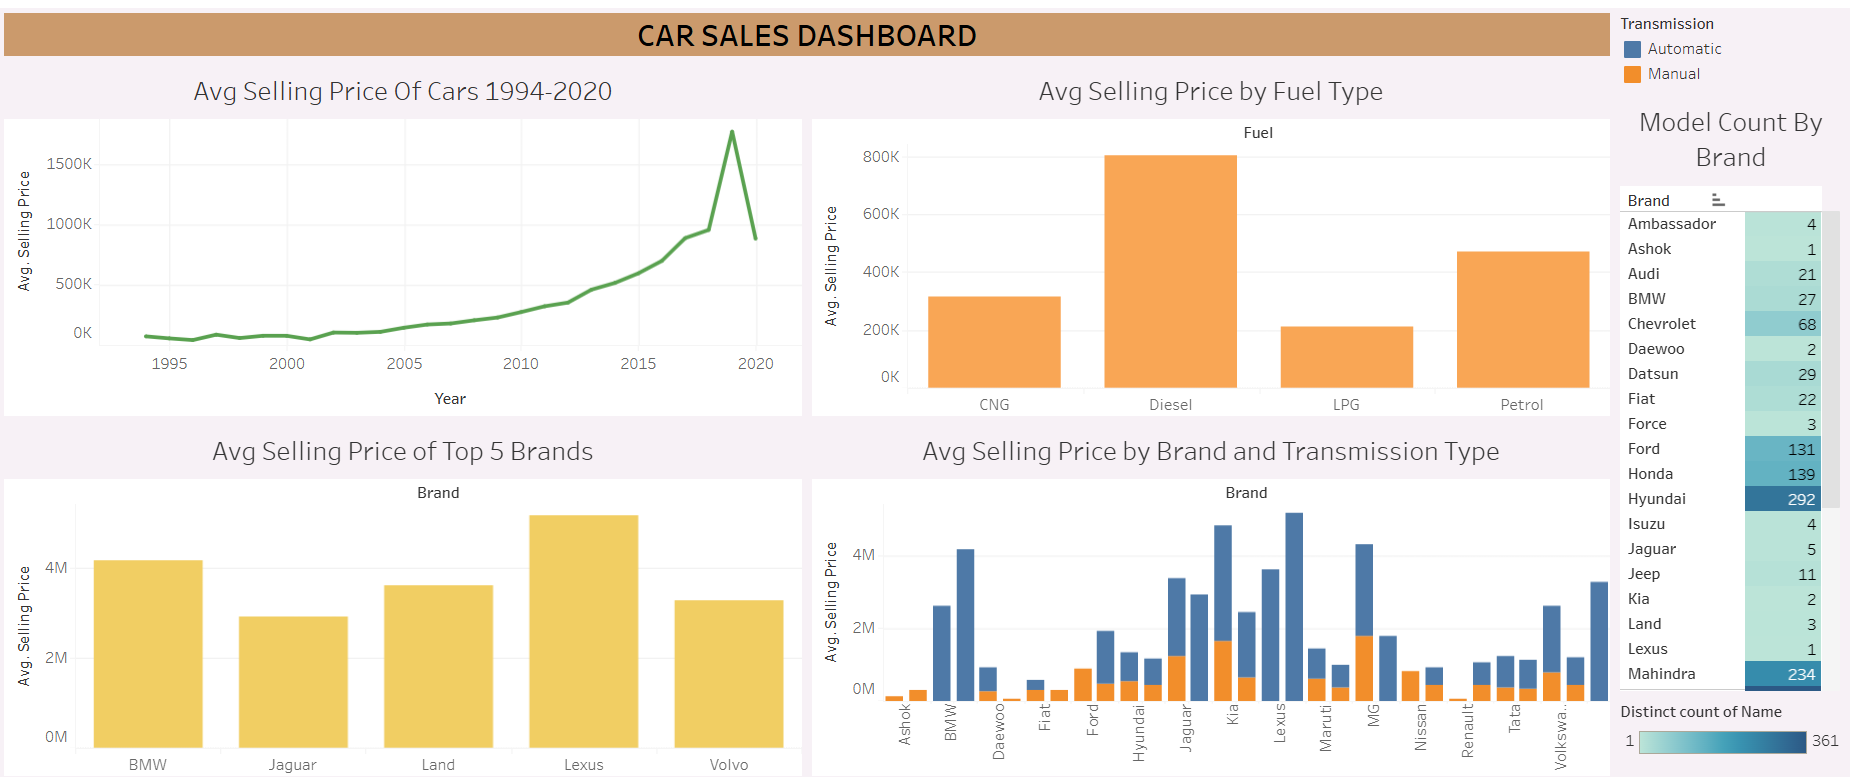

What the dashboard file says about the page in this screenshot:
{"tool":"tableau","page":{"name":"Dashboard 1","canvas":[1000,1000],"units":"permille","ordinal":0},"visuals":[{"type":"title","box":[4.8,9.3,876.9,56.9]},{"type":"legend","title":"Avg Selling Price by Brand and Transmission Type","param":"[federated.0wpgrcc0idzwib1fr7xt21i49dn0].[none:transmission:nk]","box":[881.7,9.3,113.5,83.6]},{"type":"worksheet","title":"Avg Selling Price Of Cars 1994-2020","mark":"Automatic","rows":["selling_price"],"cols":["year"],"box":[4.8,66.2,438.4,462.2]},{"type":"worksheet","title":"Avg Selling Price by Fuel Type","mark":"Automatic","rows":["selling_price"],"cols":["fuel"],"box":[443.2,66.2,438.5,462.2]},{"type":"worksheet","title":"Model Count By Brand","mark":"Square","rows":["brand"],"box":[881.7,92.9,113.5,813]},{"type":"worksheet","title":"Avg Selling Price of Top 5 Brands","mark":"Automatic","rows":["selling_price"],"cols":["brand"],"box":[4.8,528.4,438.4,462.3]},{"type":"worksheet","title":"Avg Selling Price by Brand and Transmission Type","mark":"Automatic","rows":["selling_price"],"cols":["brand"],"box":[443.2,528.4,438.5,462.3]},{"type":"legend","title":"Model Count By Brand","param":"[federated.0wpgrcc0idzwib1fr7xt21i49dn0].[ctd:name:qk]","box":[881.7,905.9,113.5,84.8]}]}

Visuals, with their boxes on the dashboard's canvas, which has no fixed pixel size, in thousandths of its width and height (x1, y1, x2, y2). These are canvas units, not pixel positions in the 1856x777 screenshot, which may show the page scaled, cropped or inside an application window:
title: box=[5, 9, 882, 66]
"Avg Selling Price by Brand and Transmission Type" legend: box=[882, 9, 995, 93]
"Avg Selling Price Of Cars 1994-2020" worksheet: box=[5, 66, 443, 528]
"Avg Selling Price by Fuel Type" worksheet: box=[443, 66, 882, 528]
"Model Count By Brand" worksheet (Square marks): box=[882, 93, 995, 906]
"Avg Selling Price of Top 5 Brands" worksheet: box=[5, 528, 443, 991]
"Avg Selling Price by Brand and Transmission Type" worksheet: box=[443, 528, 882, 991]
"Model Count By Brand" legend: box=[882, 906, 995, 991]
